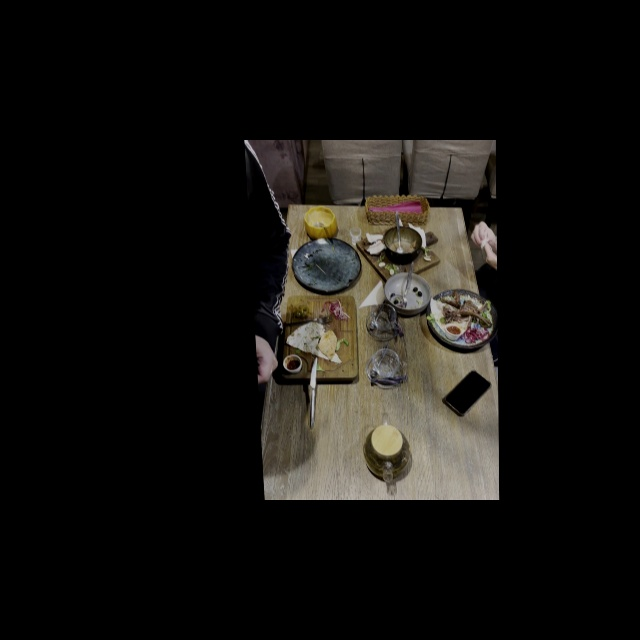закуска(пустая тарелка): (278, 293, 359, 383)
мясо(пустая тарелка): (425, 288, 499, 350)
салат цезарь: (383, 272, 431, 316)
салат(пустая тарелка): (290, 236, 362, 294)
сырный суп(пустая тарелка): (303, 205, 337, 241)
